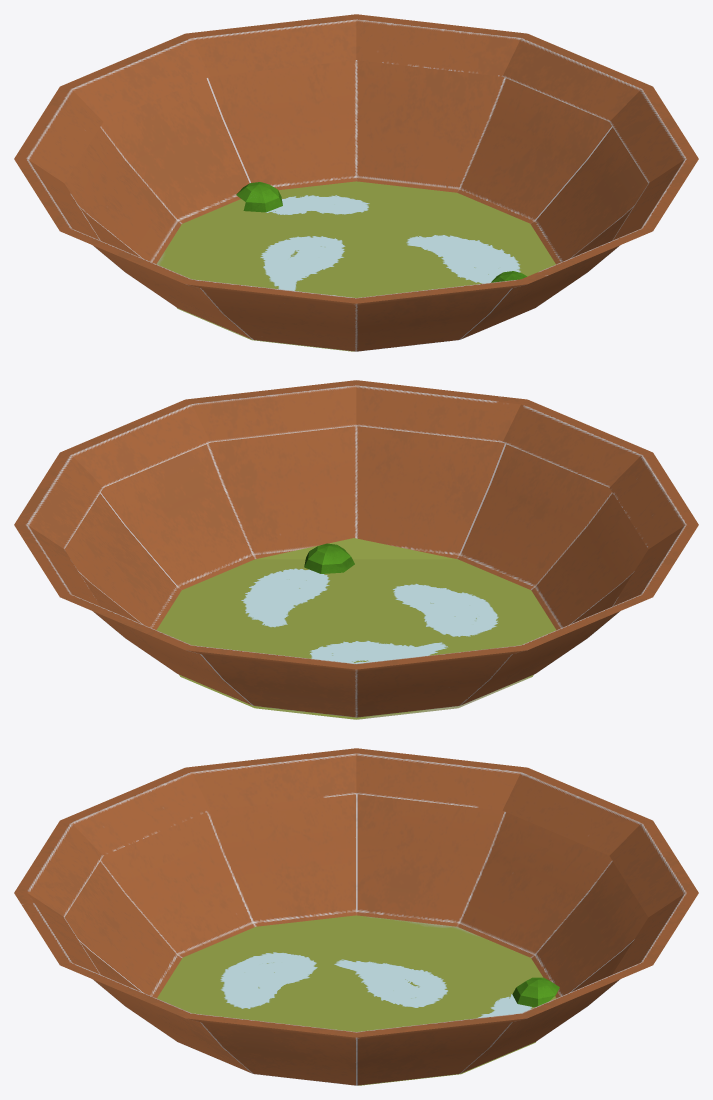
The model's file is crema2.glb.
The picture shows the model from 3 angles, top to bottom: view 1: azimuth 30°, elevation 25°; view 2: azimuth 150°, elevation 25°; view 3: azimuth 270°, elevation 25°; orthographic projection.
Visible parts, largest first — view 1: Plato3, polySurface42; view 2: Plato3, polySurface42; view 3: Plato3, polySurface42.
Part boxes in pixels (<box>): Plato3: <box>14,14,698,351</box>; polySurface42: <box>236,182,527,282</box>; Plato3: <box>14,380,698,719</box>; polySurface42: <box>304,543,354,573</box>; Plato3: <box>14,748,698,1085</box>; polySurface42: <box>512,977,559,1007</box>.
Bounding box in the file's own units: 2.3 × 0.5109 × 2.3.
Materials: 3 (3 with a texture image).
